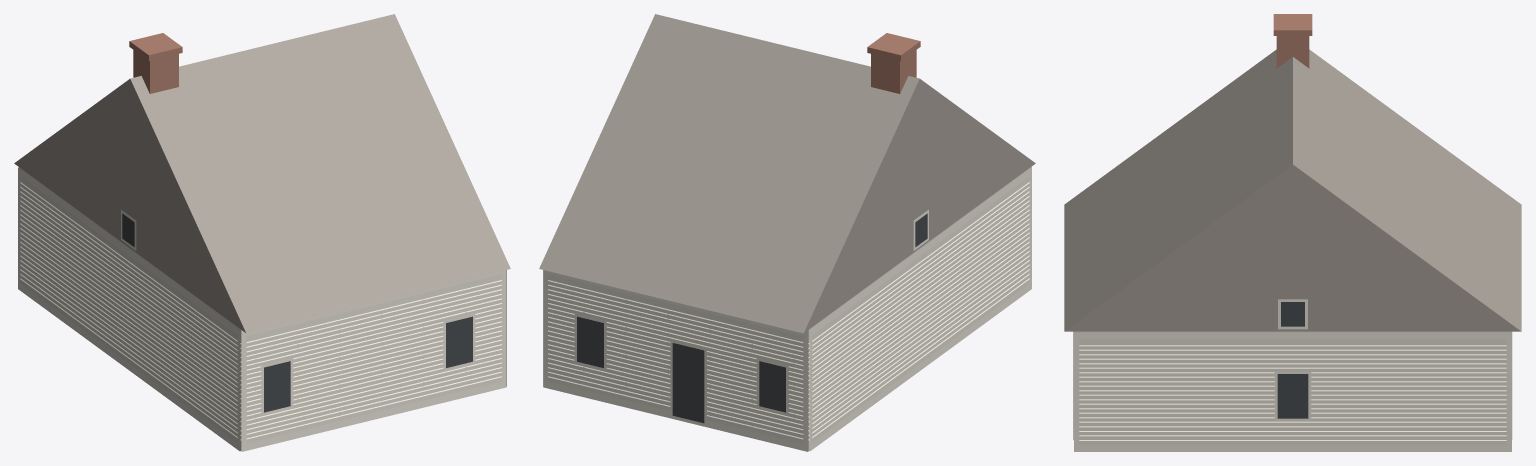
Rendered from recon_1835_blk_randolph_clark_h1_03__inferred_1835.glb.
3 views of the same model, side by side, from view 1: azimuth 30°, elevation 25°; view 2: azimuth 150°, elevation 25°; view 3: azimuth 270°, elevation 25° (orthographic).
Visible parts, largest first — view 1: recon_1835_blk_randolph_clark_h1_03__inferred_1835; view 2: recon_1835_blk_randolph_clark_h1_03__inferred_1835; view 3: recon_1835_blk_randolph_clark_h1_03__inferred_1835.
Part boxes in pixels (box(x1,y1,x2,y2)): recon_1835_blk_randolph_clark_h1_03__inferred_1835: box(14, 14, 510, 451); recon_1835_blk_randolph_clark_h1_03__inferred_1835: box(539, 14, 1035, 451); recon_1835_blk_randolph_clark_h1_03__inferred_1835: box(1064, 14, 1521, 451).
Bounding box in the file's own units: 7.77 × 8.86 × 11.68.
